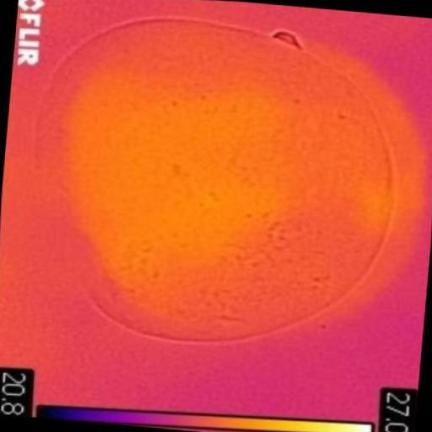mango: (59, 21, 391, 340)
